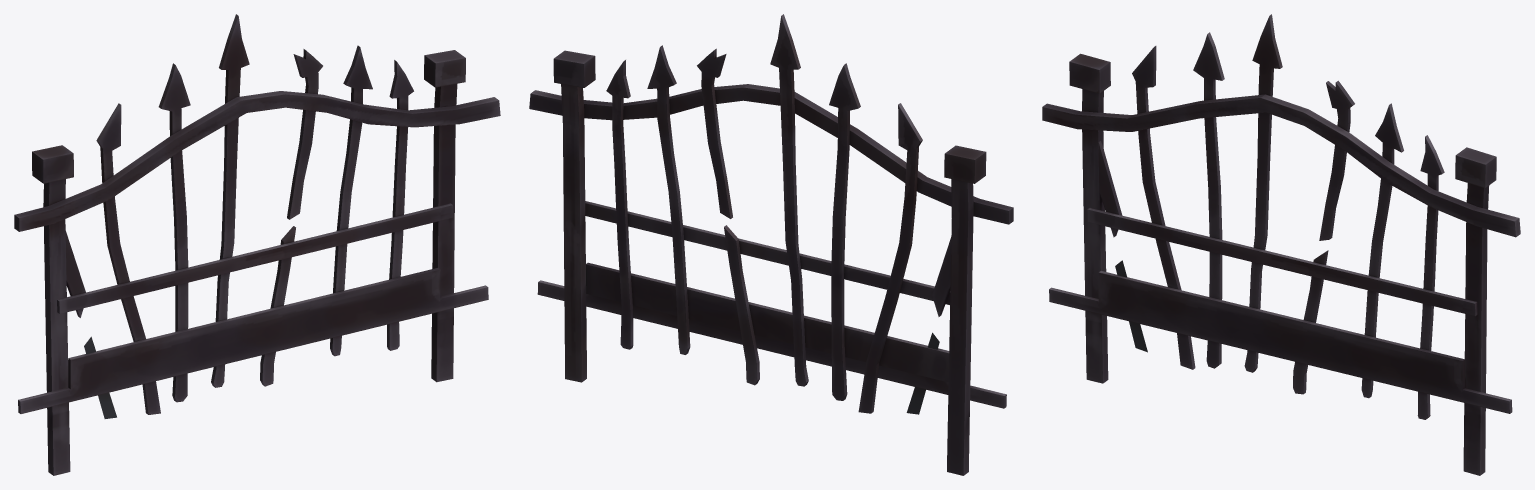
File: fance_02.fbx
3 renders of one model, left to right at view 1: azimuth 30°, elevation 25°; view 2: azimuth 150°, elevation 25°; view 3: azimuth 330°, elevation 25°, orthographic.
Visible parts, largest first — view 1: fance_02; view 2: fance_02; view 3: fance_02.
Boxes of the visible parts, left/top/right/bottom form: fance_02: left=14, top=14, right=500, bottom=475; fance_02: left=529, top=14, right=1013, bottom=475; fance_02: left=1042, top=14, right=1520, bottom=475.
Size of the model in its own units: 299 by 246 by 14.06.
